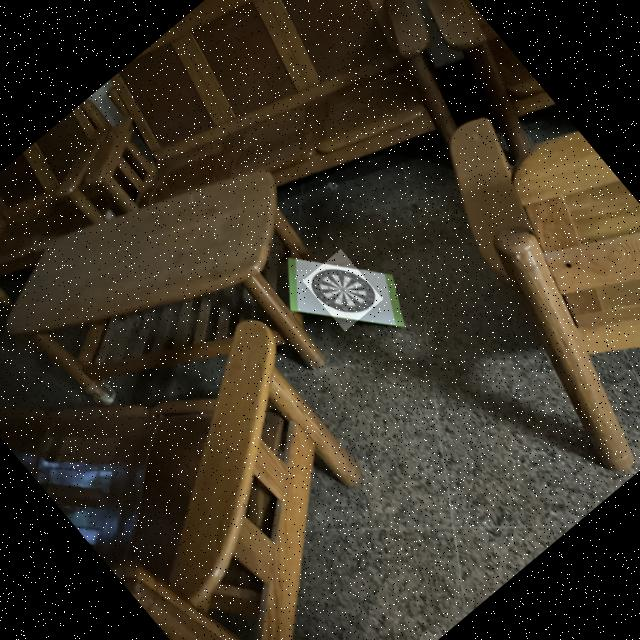archery-targets: (303, 248, 384, 331)
